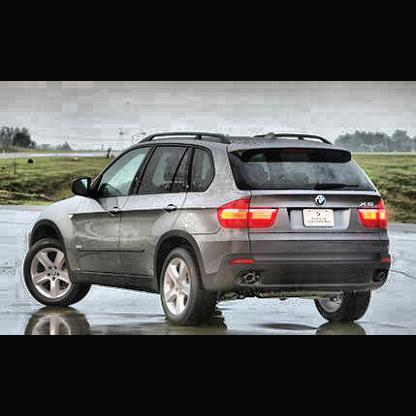BMW X5 SUV 2007: (22, 125, 397, 325)
